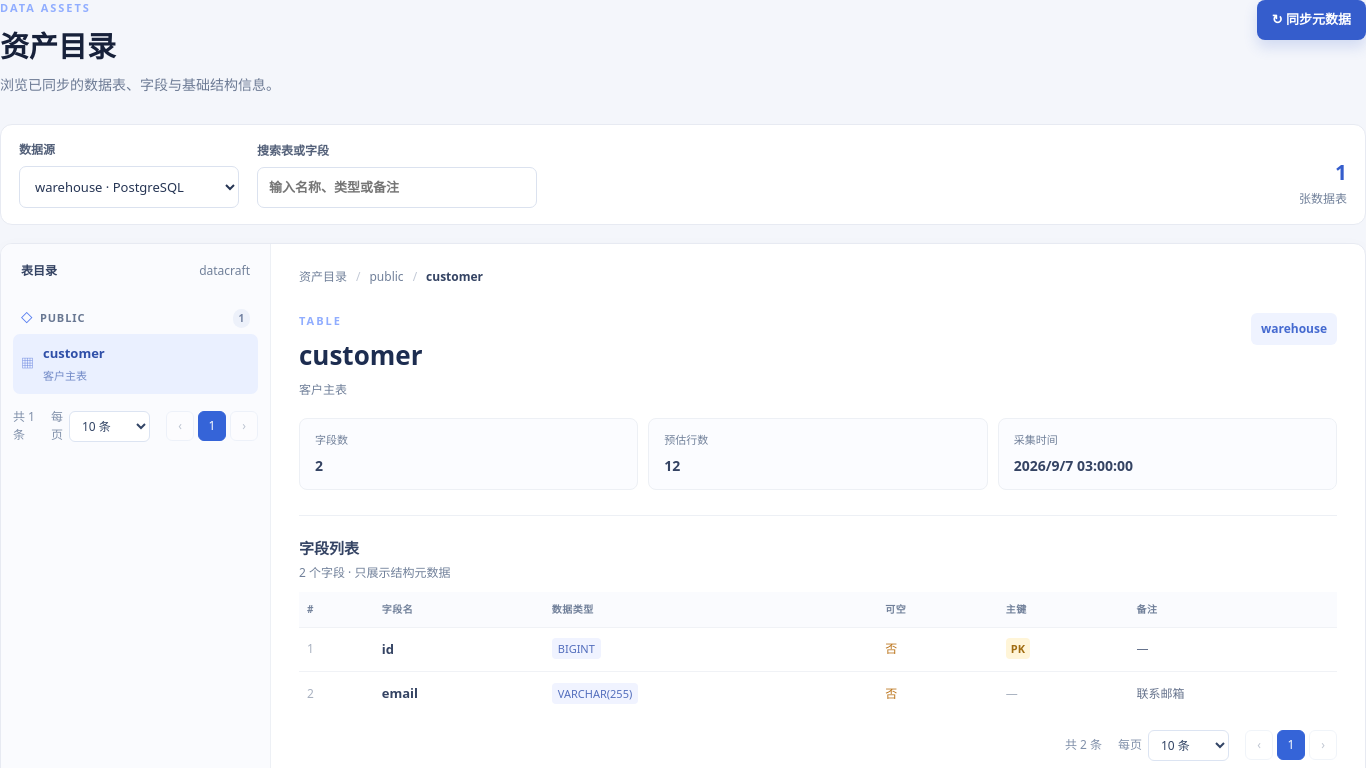
Test: AssetListView › syncs metadata for the selected datasource and reloads the catalog
Click the button with test id "sync-metadata" at (1311, 20), box [1257, 0, 1365, 40]
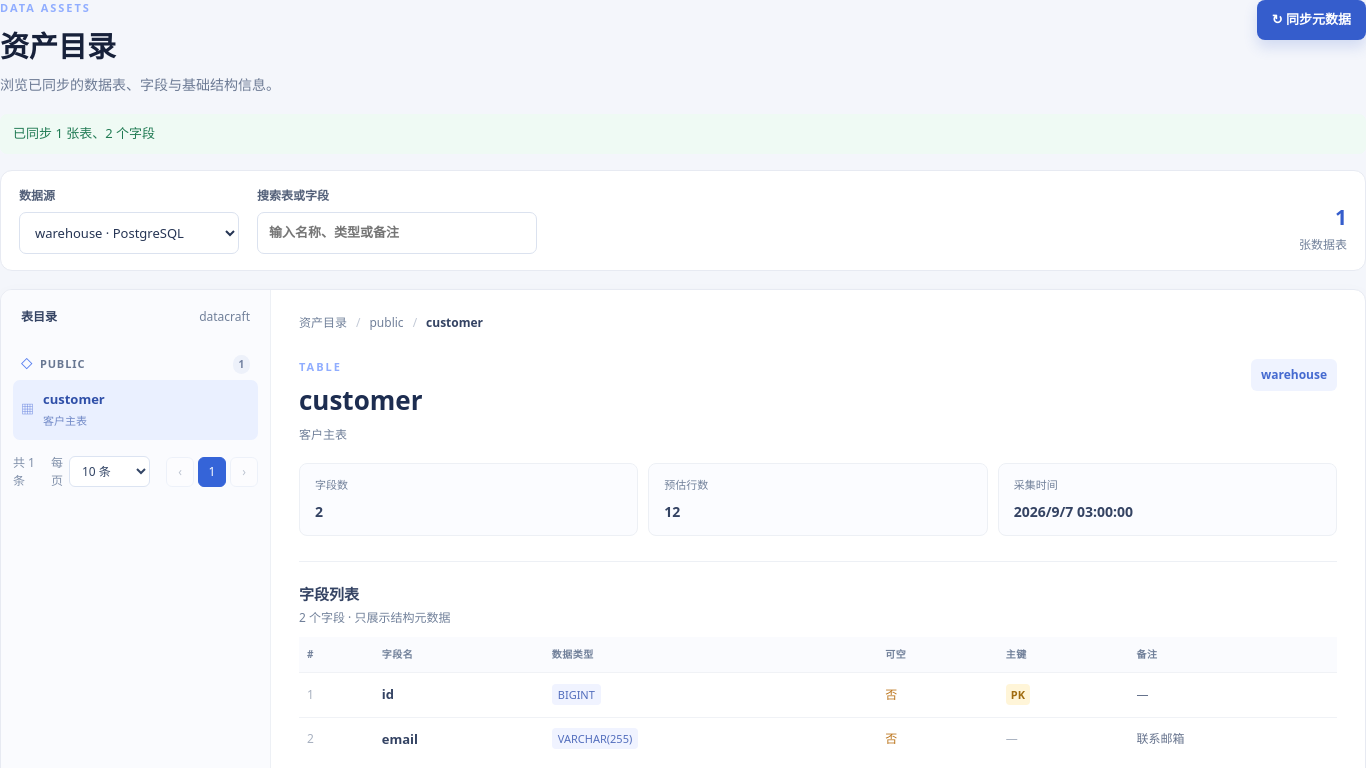
Now the text "已同步 1 张表" is shown, box [13, 124, 155, 142]
